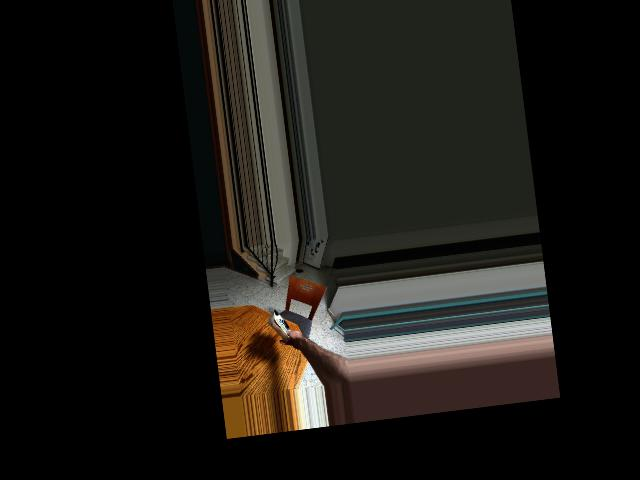cheese: (266, 307, 294, 344)
